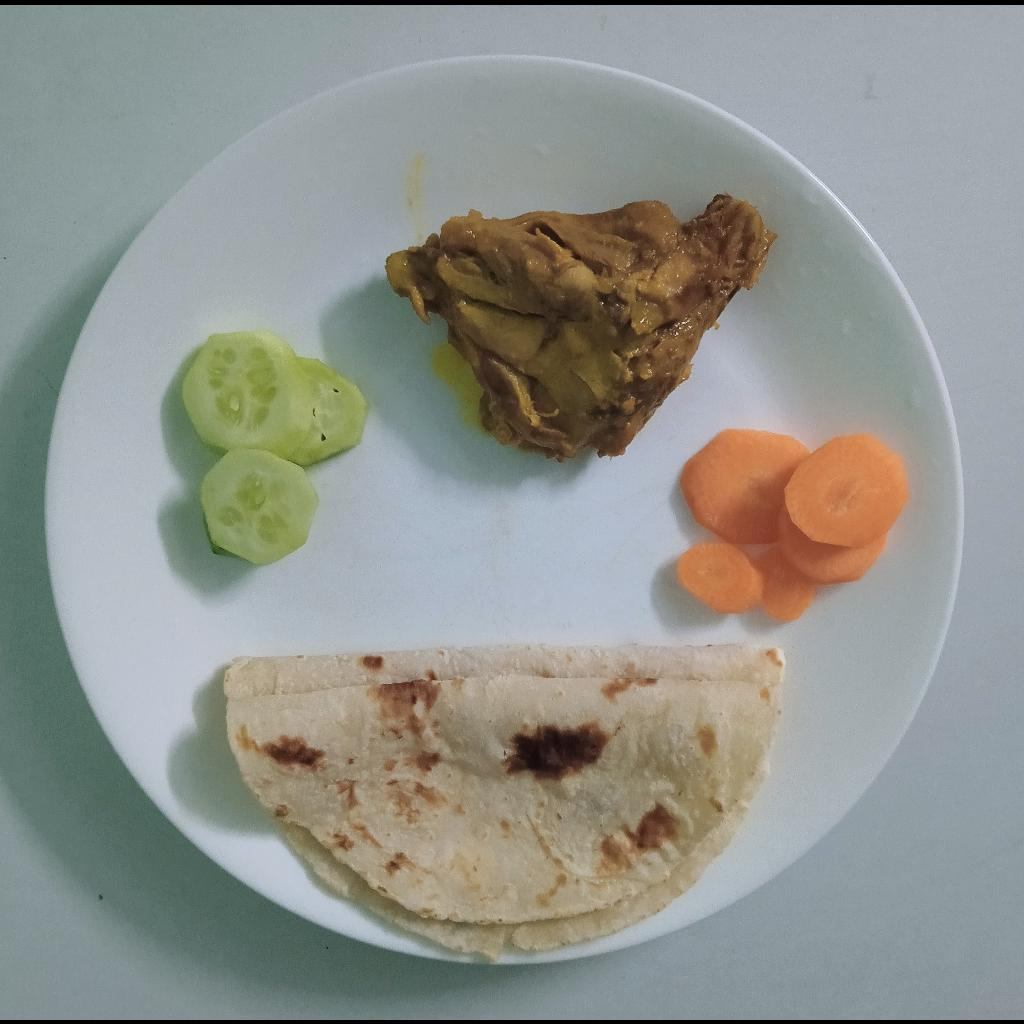carrot: (678, 426, 910, 629)
chicken: (382, 192, 775, 467)
cucumber: (175, 329, 368, 568)
ruti: (220, 641, 786, 964)
